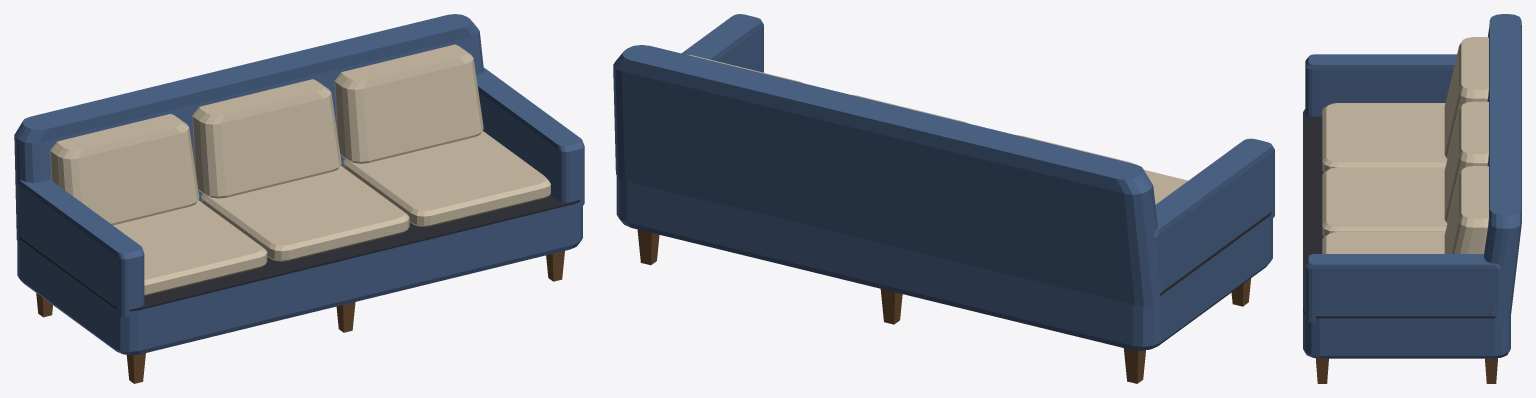
The model's file is FN_Sofa_3Seat.obj.
3 views of the same model, side by side, from view 1: azimuth 30°, elevation 25°; view 2: azimuth 150°, elevation 25°; view 3: azimuth 270°, elevation 25° (orthographic). The views are drawn at different scales.
Visible parts, largest first — view 1: FN_Sofa_3Seat; view 2: FN_Sofa_3Seat; view 3: FN_Sofa_3Seat.
Boxes of the visible parts, x1,y1,x2,y2 form: FN_Sofa_3Seat: [14, 14, 584, 383]; FN_Sofa_3Seat: [613, 14, 1274, 383]; FN_Sofa_3Seat: [1303, 14, 1521, 383].
Bounding box in the file's own units: 2.12 × 0.806 × 0.927.
Materials: 1 (1 with a texture image).
